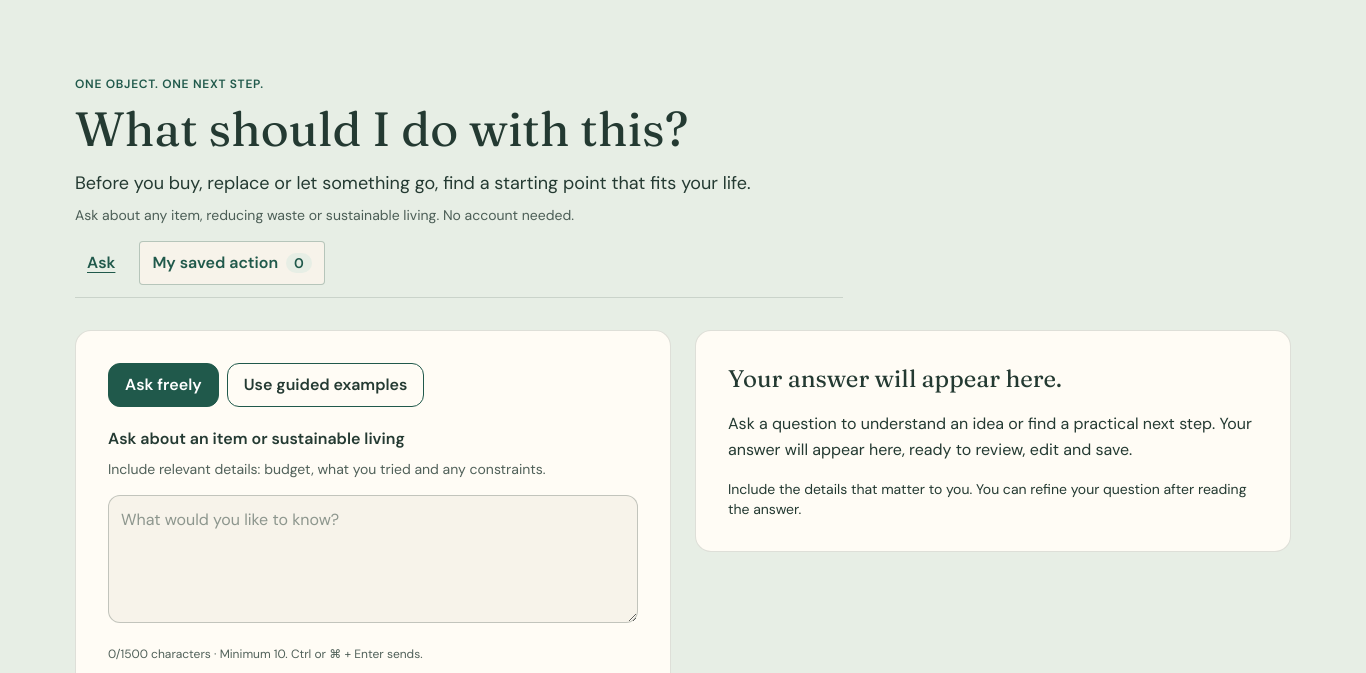
it: keeps the action usable when storage writes fail and does not pretend removal succeeded
Click the button "Use guided examples" at (326, 385), box [227, 363, 424, 407]
(page scrolled)
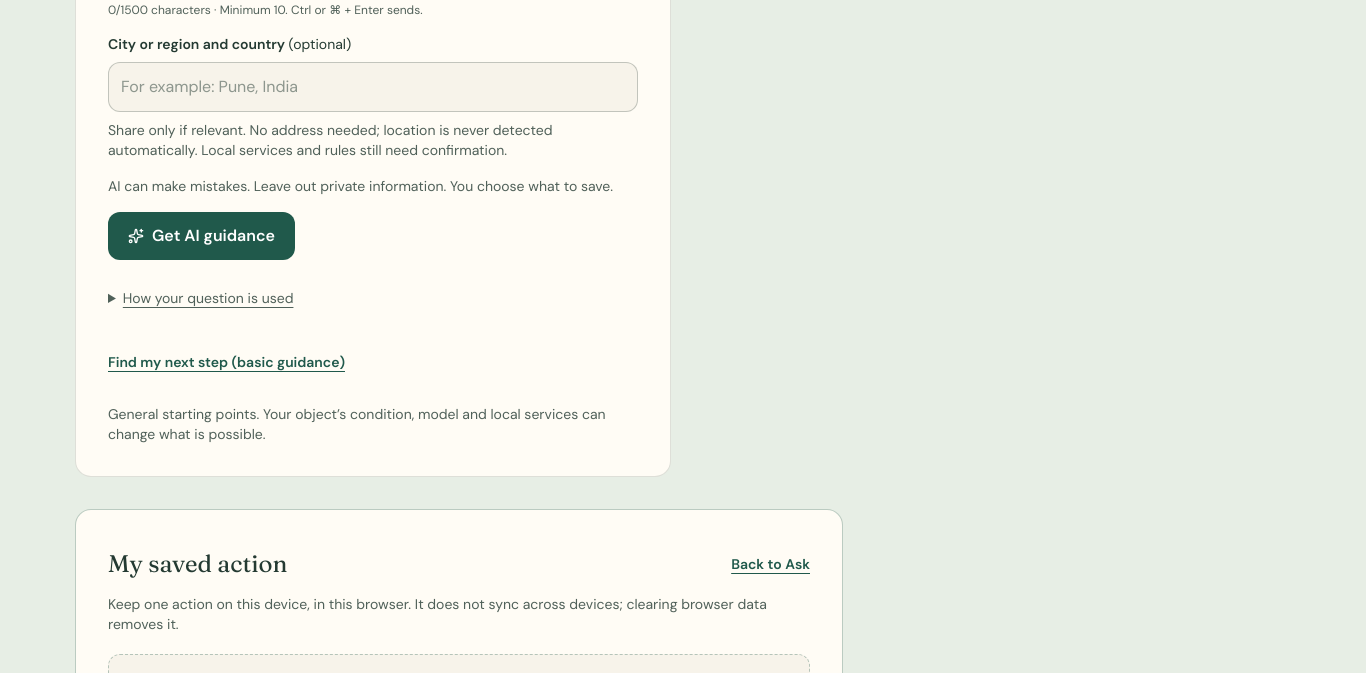
Click the button "Find my next step (basic guidance)" at (226, 362), box [108, 340, 345, 384]
(page scrolled)
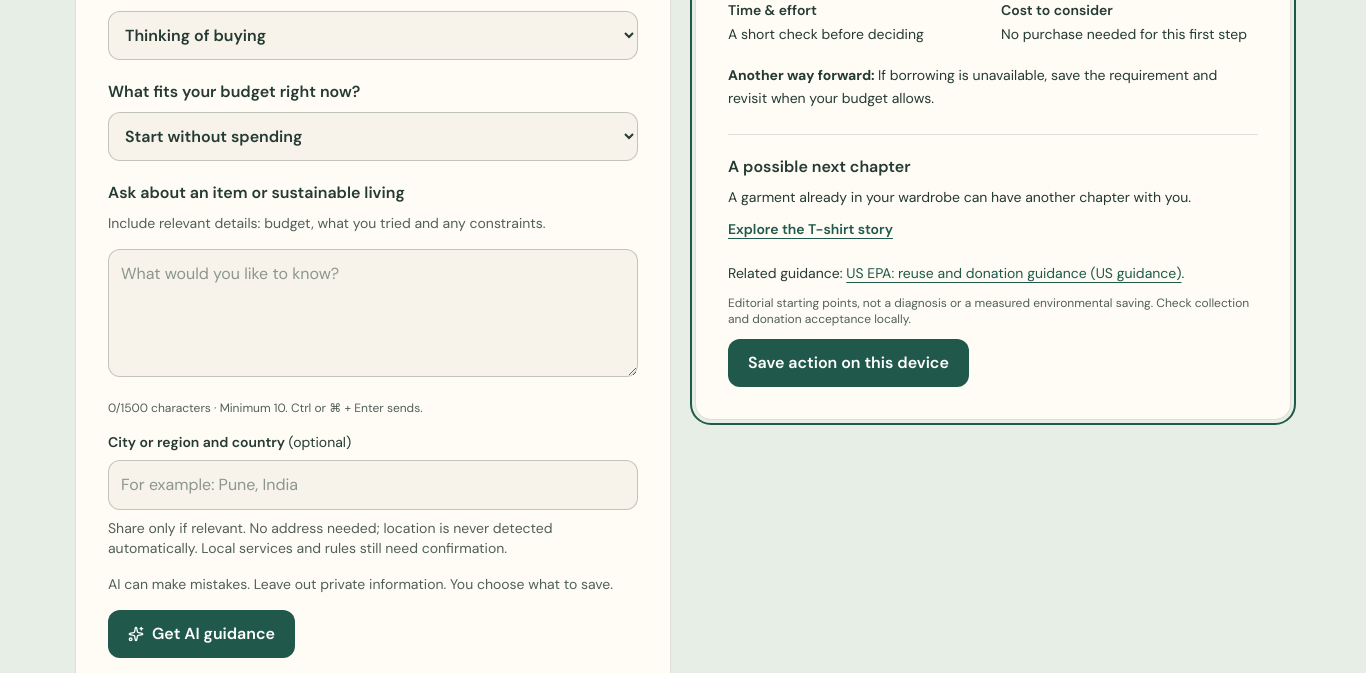
Click the button "Save action on this device" at (848, 362), box [728, 338, 969, 386]
(page scrolled)
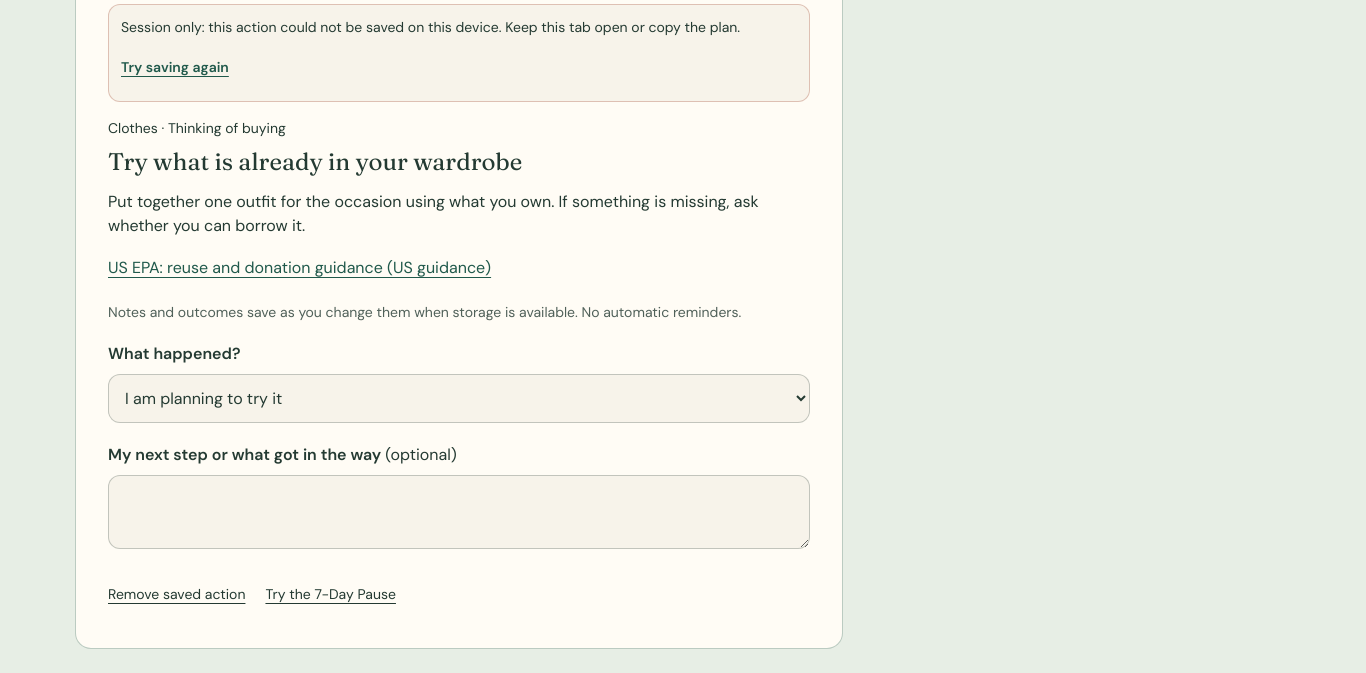
Click the button "Remove saved action" at (177, 594), box [108, 572, 246, 616]
(page scrolled)
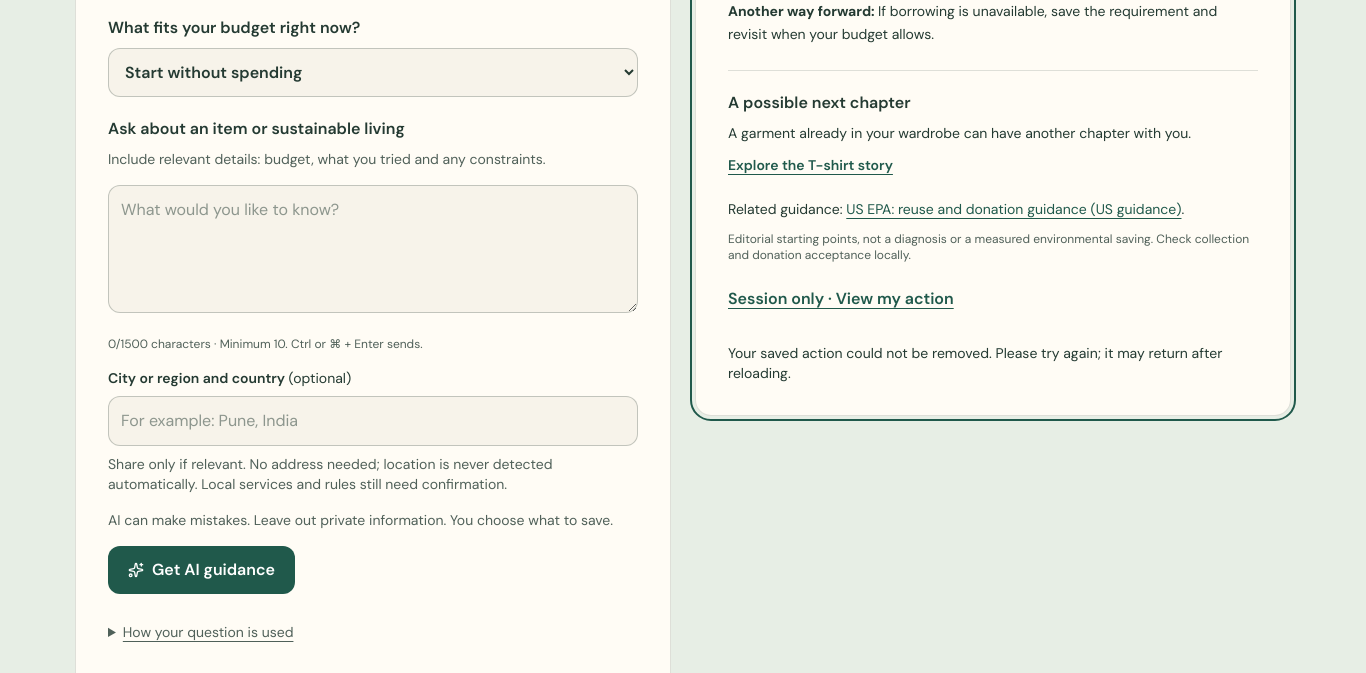
Check: the message with id "action-storage-status" shows "could not be removed", box [728, 344, 1222, 382]
